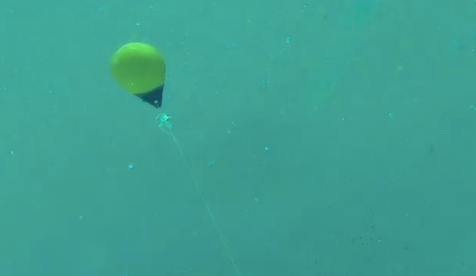yellow_buoy: (108, 39, 170, 111)
